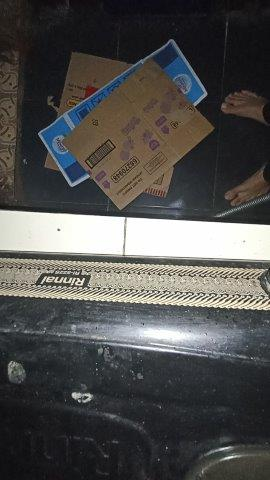kardus: (39, 40, 214, 210)
